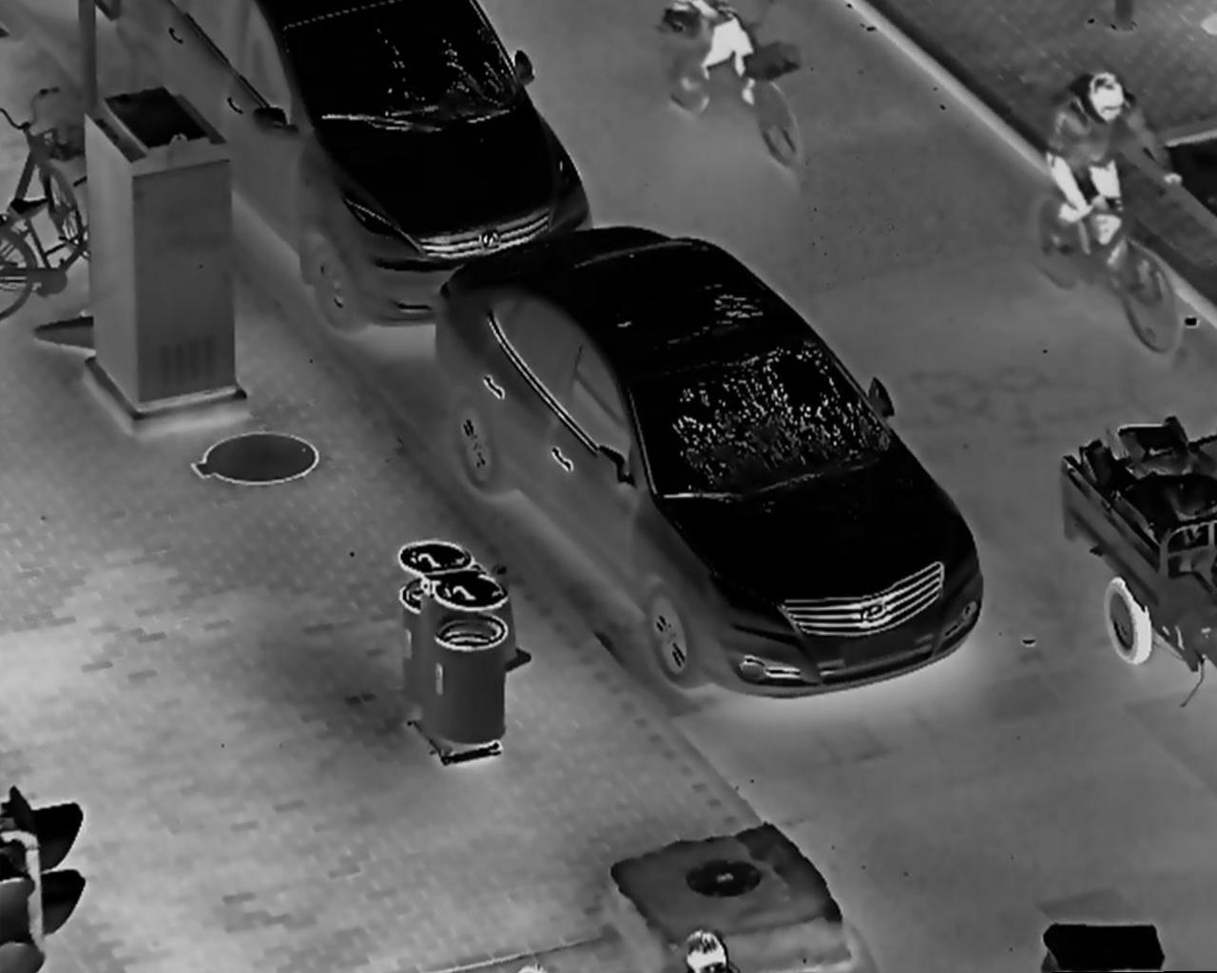person: (1040, 67, 1181, 286)
